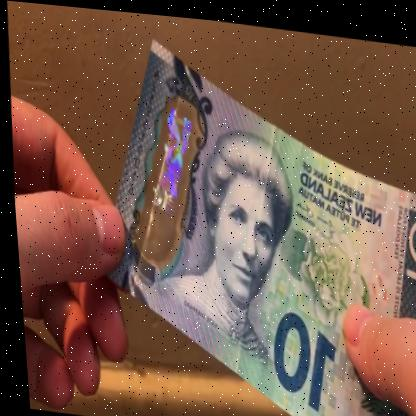10B: (140, 97, 199, 223)
